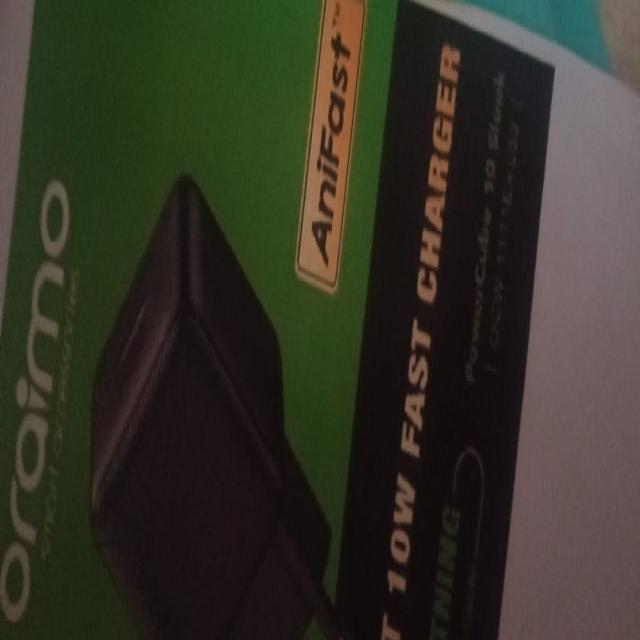PowerCube 10 Sleek OCW-1111ExL53: (454, 44, 536, 410)
